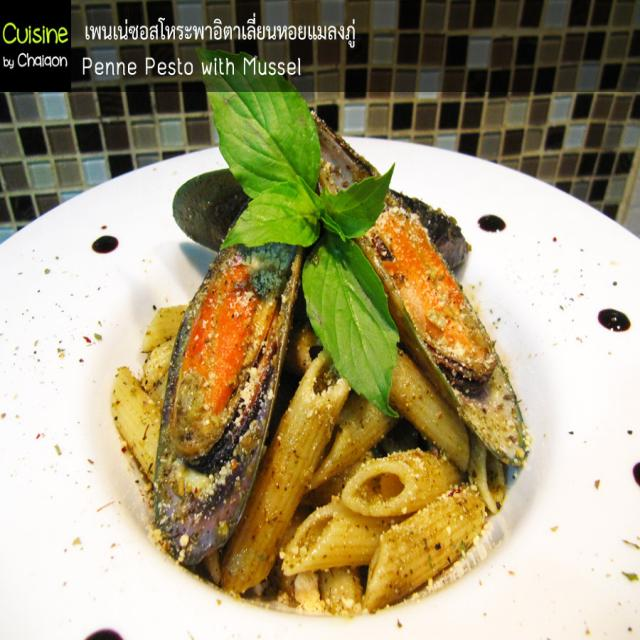pasta: (168, 198, 497, 611)
